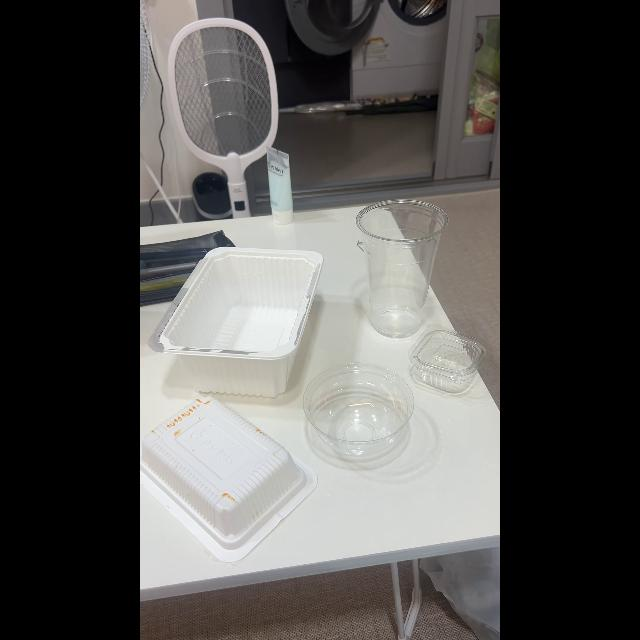clean: (176, 249, 324, 389), (356, 202, 448, 332), (302, 362, 416, 456), (408, 328, 486, 392)
dirty: (141, 396, 303, 540)
